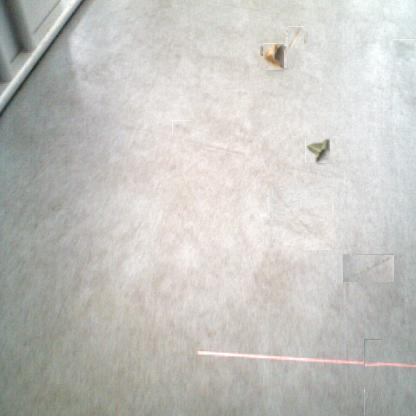dirty: (305, 138, 331, 163), (261, 45, 286, 69), (287, 28, 306, 48)
mark: (271, 187, 333, 249), (342, 254, 394, 282), (364, 339, 382, 415), (395, 37, 416, 60), (172, 120, 191, 135)
